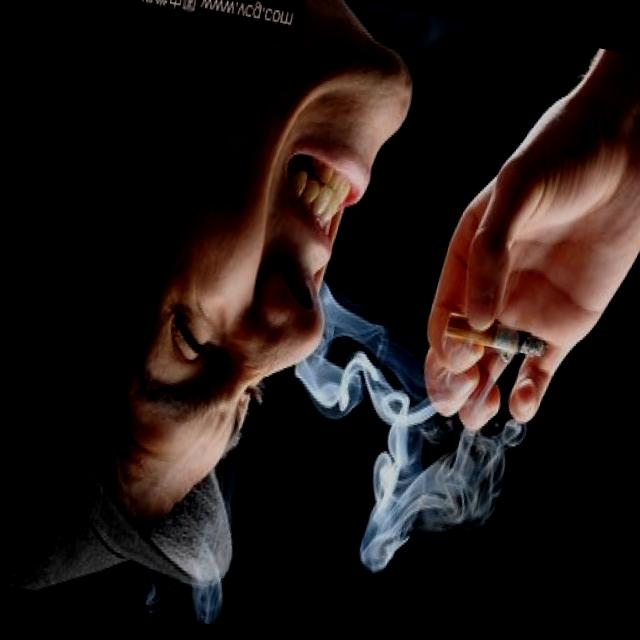cigarette: (486, 320, 548, 362)
